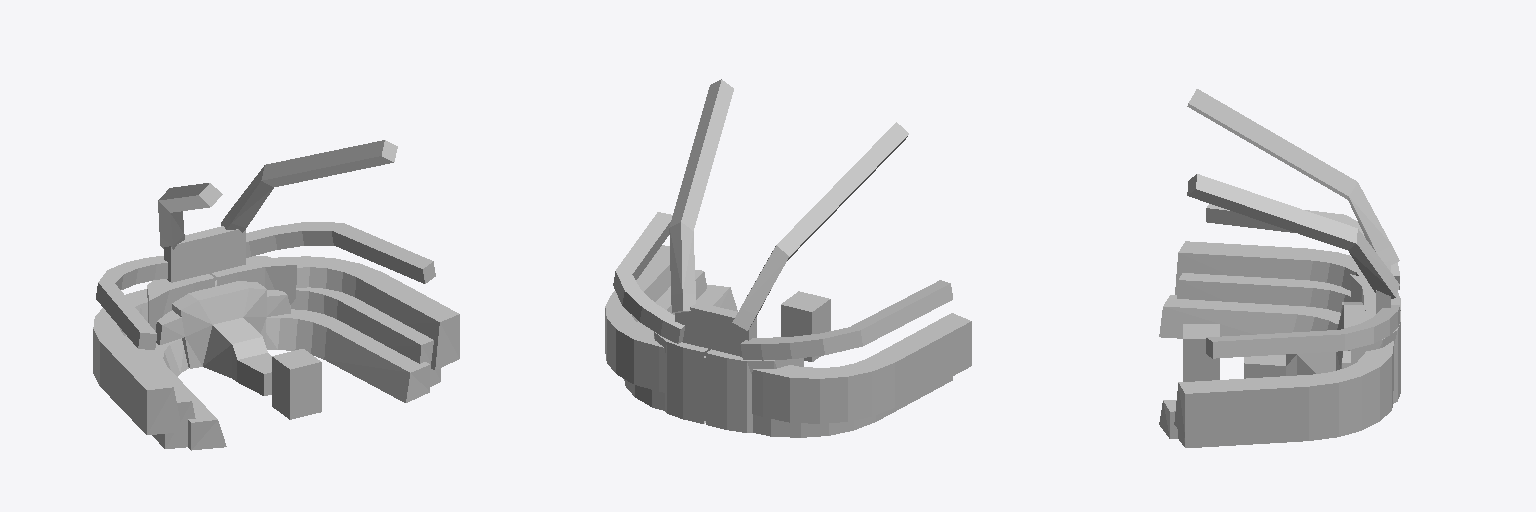
Rendered from Greybox_Cockpit.obj.
The picture shows the model from 3 angles: view 1: azimuth 30°, elevation 25°; view 2: azimuth 150°, elevation 25°; view 3: azimuth 270°, elevation 25°; orthographic projection.
Parts seen in each view (by area): view 1: main1 polySurface18, main1 polySurface8, polySurface7 main1, main1 polySurface9, main1 polySurface17, main1 polySurface15, main1 polySurface16, main1 polySurface13, main1 polySurface12, main1 polySurface14, main1 polySurface11, main1 polySurface10; view 2: main1 polySurface18, main1 polySurface15, main1 polySurface16, main1 polySurface14, main1 polySurface10, main1 polySurface17, main1 polySurface9, main1 polySurface11, main1 polySurface13, main1 polySurface12, main1 polySurface8; view 3: main1 polySurface18, main1 polySurface9, main1 polySurface15, main1 polySurface8, main1 polySurface14, main1 polySurface17, polySurface7 main1, main1 polySurface12, main1 polySurface16, main1 polySurface11, main1 polySurface10.
Boxes of the visible parts, box(x1,y1,x2,y2) form: main1 polySurface18: box(93, 256, 459, 434); main1 polySurface8: box(143, 309, 429, 450); polySurface7 main1: box(156, 281, 290, 395); main1 polySurface9: box(125, 287, 440, 448); main1 polySurface17: box(246, 222, 435, 283); main1 polySurface15: box(221, 140, 397, 232); main1 polySurface16: box(96, 256, 167, 349); main1 polySurface13: box(164, 226, 245, 282); main1 polySurface12: box(272, 349, 321, 419); main1 polySurface14: box(158, 183, 222, 249); main1 polySurface11: box(212, 256, 296, 304); main1 polySurface10: box(147, 274, 214, 331); main1 polySurface18: box(605, 245, 971, 423); main1 polySurface15: box(669, 79, 733, 312); main1 polySurface16: box(740, 280, 952, 360); main1 polySurface14: box(732, 122, 908, 330); main1 polySurface10: box(706, 349, 803, 432); main1 polySurface17: box(613, 212, 684, 343); main1 polySurface9: box(624, 270, 952, 437); main1 polySurface11: box(654, 332, 707, 423); main1 polySurface13: box(675, 302, 756, 356); main1 polySurface12: box(781, 291, 830, 361); main1 polySurface8: box(696, 285, 737, 311); main1 polySurface18: box(1174, 241, 1393, 438); main1 polySurface9: box(1177, 273, 1392, 447); main1 polySurface15: box(1187, 174, 1399, 298); main1 polySurface8: box(1159, 295, 1340, 438); main1 polySurface14: box(1187, 89, 1399, 264); main1 polySurface17: box(1206, 305, 1399, 358); polySurface7 main1: box(1244, 302, 1364, 378); main1 polySurface12: box(1183, 324, 1219, 381); main1 polySurface16: box(1206, 204, 1399, 289); main1 polySurface11: box(1350, 311, 1400, 403); main1 polySurface10: box(1350, 274, 1400, 310).
Size of the model in its own units: 1185 by 905 by 794.